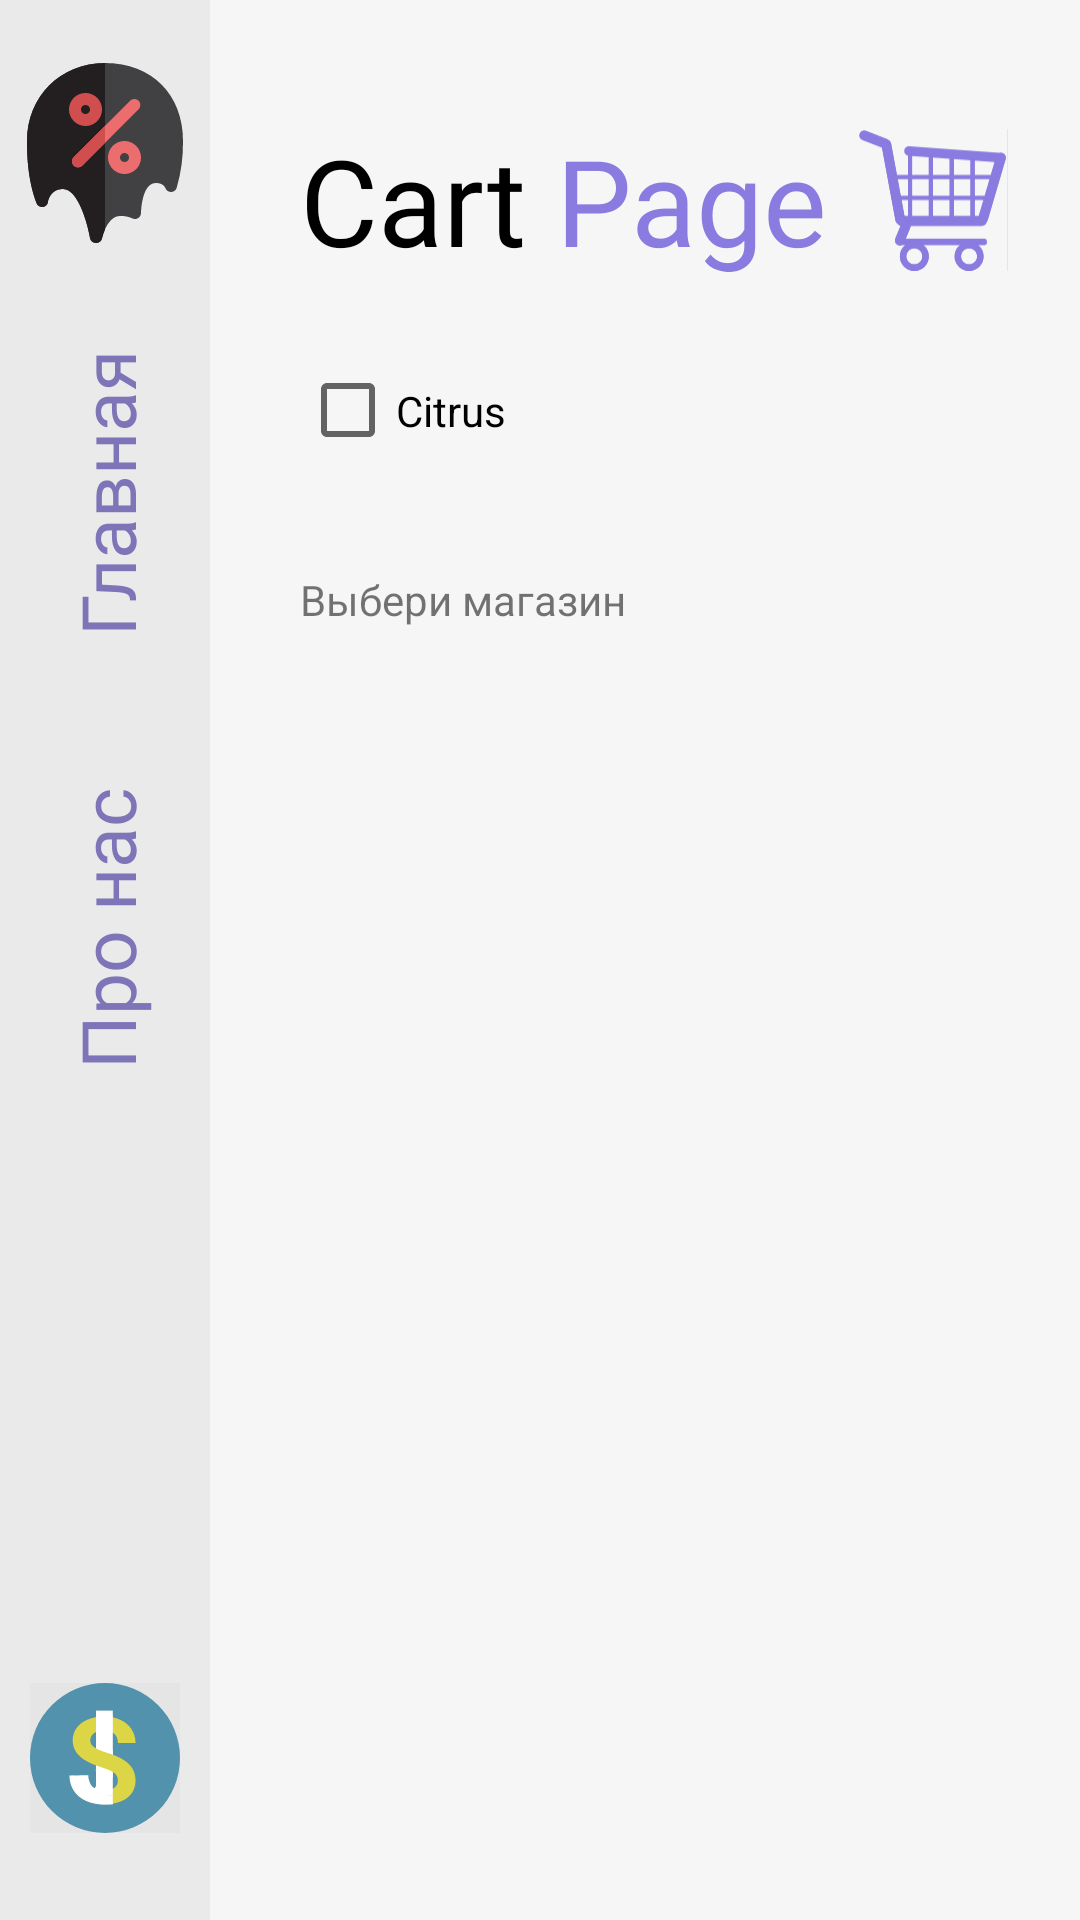

Where to tap for icons on this 1080w x 1920h app screen, as (x=x, y=y):
cart: (x=932, y=200)
Sales: (x=105, y=153)
